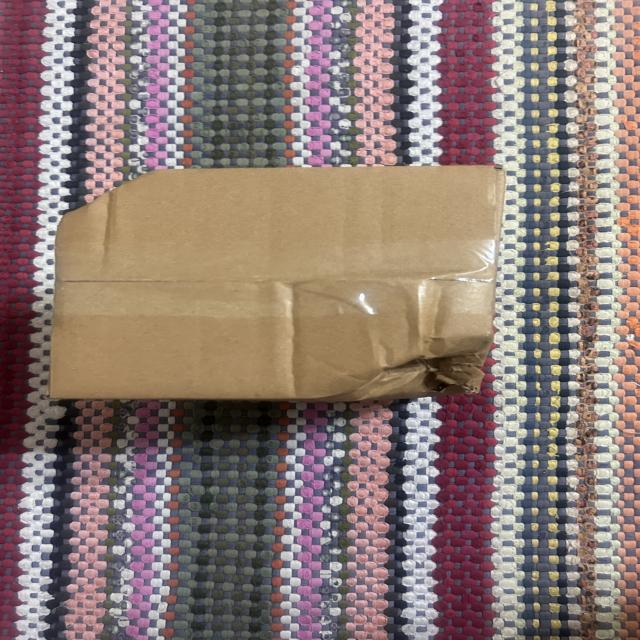damaged: (48, 160, 515, 414), (330, 336, 494, 408), (59, 157, 164, 217)
